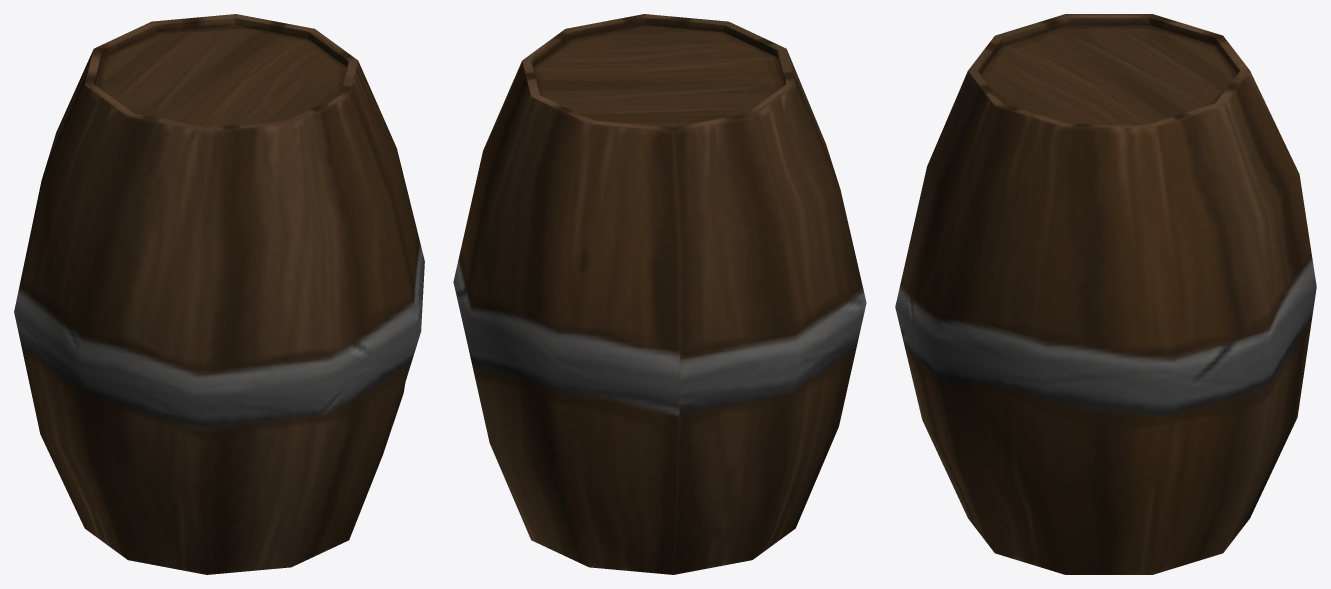
The model's file is WoodenBarrel01_Geo.fbx.
3 renders of one model, left to right at view 1: azimuth 30°, elevation 25°; view 2: azimuth 150°, elevation 25°; view 3: azimuth 270°, elevation 25°, orthographic.
Visible parts, largest first — view 1: WoodenBarrel01_Geo; view 2: WoodenBarrel01_Geo; view 3: WoodenBarrel01_Geo.
Boxes of the visible parts, x1,y1,x2,y2 form: WoodenBarrel01_Geo: [14, 14, 424, 574]; WoodenBarrel01_Geo: [453, 14, 866, 574]; WoodenBarrel01_Geo: [895, 14, 1316, 574].
Size of the model in its own units: 5.73 by 7 by 5.97.
